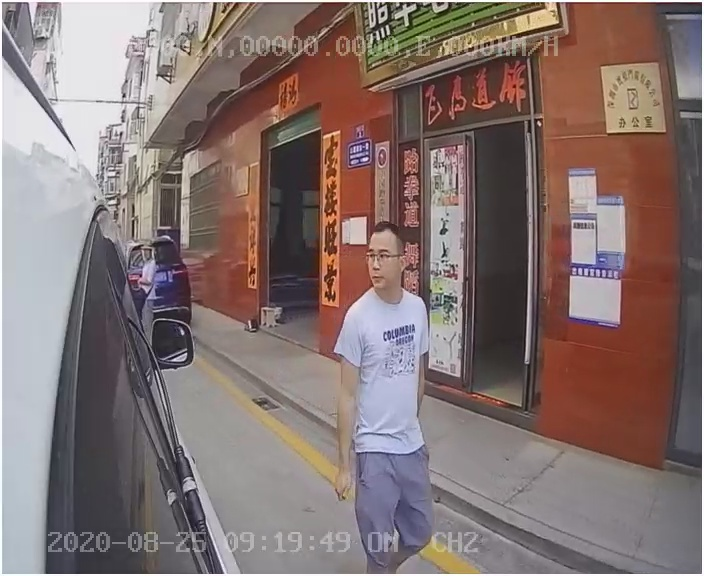person: (324, 223, 460, 537)
